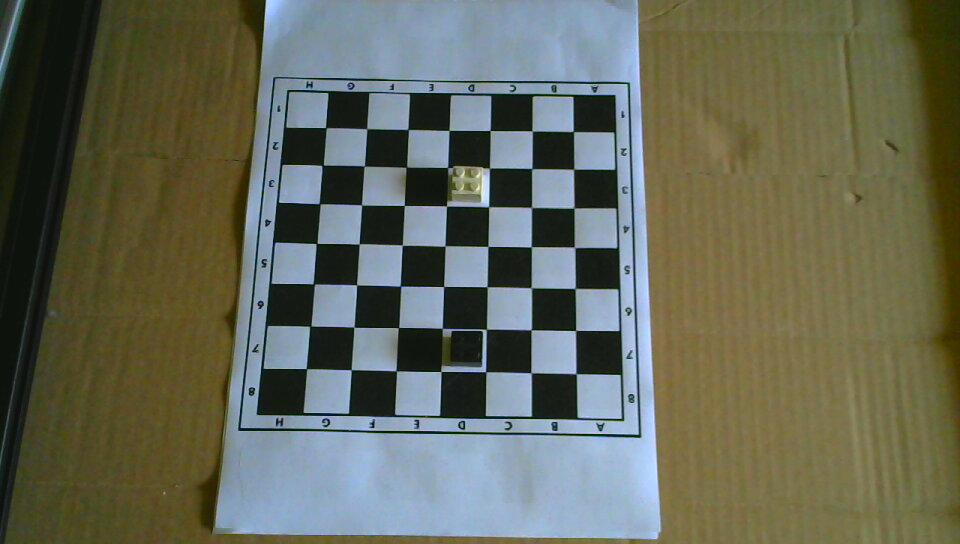bp: (447, 327, 484, 368)
wp: (448, 162, 484, 204)
